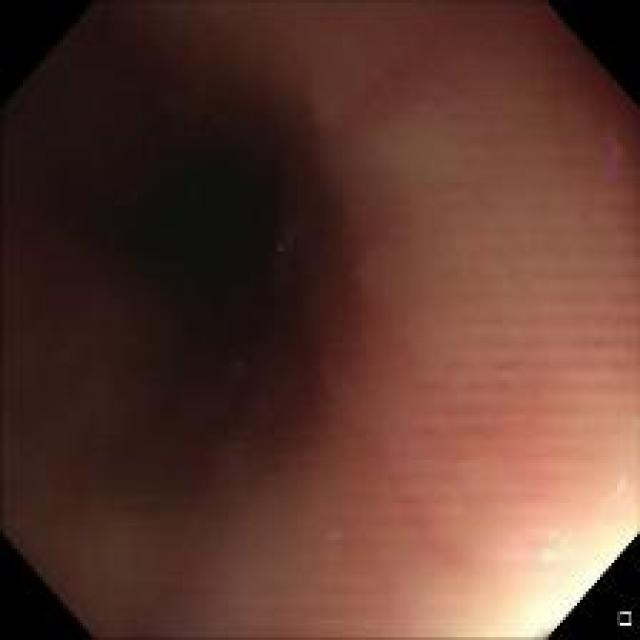color misalignment: (602, 126, 631, 190), (275, 240, 285, 255)
contrast: (28, 74, 309, 459)
saturation: (509, 539, 631, 636)
specularity: (608, 471, 628, 502)
